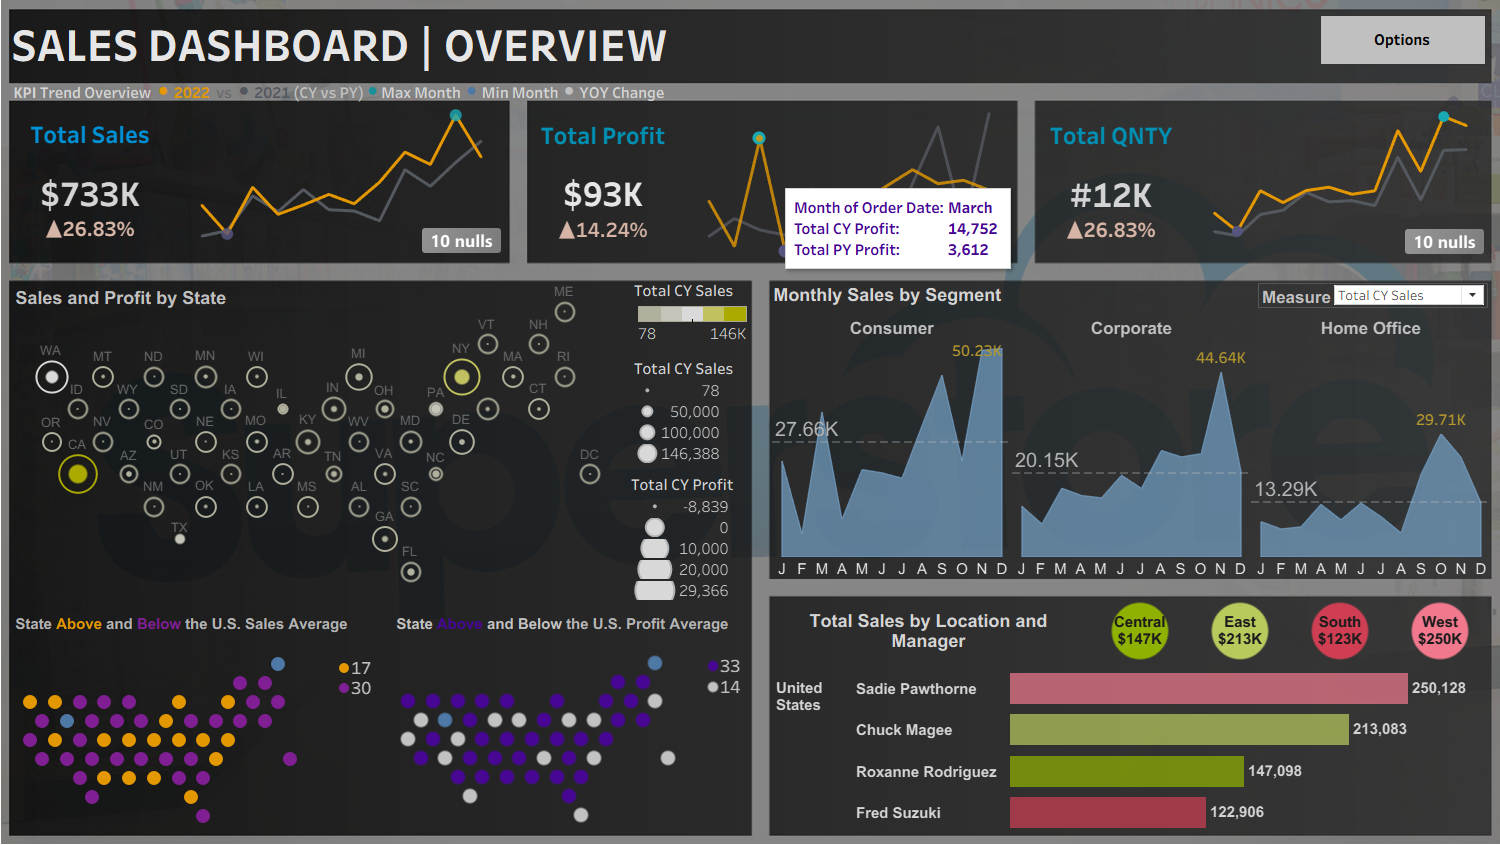

What the dashboard file says about the page in this screenshot:
{"tool":"tableau","page":{"name":"Sales Dashboard","canvas":[1600,900],"ordinal":0},"visuals":[{"type":"image","param":"Image/Sales Dashboard Background.png","box":[8,8,1584,852]},{"type":"text","box":[57,17,823,76]},{"type":"dashboard-object","box":[1369,27,166,50]},{"type":"filter","title":"Sales and Profit by State","param":"[federated.190umgp0bk0wml1gljqay1a2h1n5].[none:Category:nk]","box":[1165,30,203,57]},{"type":"text","box":[59,86,672,29]},{"type":"filter","title":"Sales and Profit by State","param":"[federated.190umgp0bk0wml1gljqay1a2h1n5].[none:Region:nk]","box":[1165,87,203,57]},{"type":"worksheet","title":"Sales KPI","mark":"Automatic","box":[57,111,164,163]},{"type":"worksheet","title":"Sales Sparklines","mark":"Automatic","rows":["Calculation_1835099585802250"],"cols":["Order Date"],"box":[221,111,338,163]},{"type":"worksheet","title":"Profit KPI","mark":"Automatic","box":[576,112,152,163]},{"type":"worksheet","title":"Profit Sparklines","mark":"Automatic","rows":["Calculation_1835099858354191"],"cols":["Order Date"],"box":[728,112,339,163]},{"type":"worksheet","title":"Quantity KPI","mark":"Automatic","box":[1083,113,153,162]},{"type":"worksheet","title":"Quantity Sparklines","mark":"Automatic","rows":["min max month (copy)_1835099876958224"],"cols":["Order Date"],"box":[1236,113,306,162]},{"type":"filter","title":"Sales and Profit by State","param":"[federated.190umgp0bk0wml1gljqay1a2h1n5].[none:Ship Mode:nk]","box":[1165,144,203,63]},{"type":"worksheet","title":"Sales and Profit by State","mark":"Circle","rows":["Row"],"cols":["Column","Column"],"box":[58,291,618,325]},{"type":"legend","title":"Sales and Profit by State","param":"[federated.190umgp0bk0wml1gljqay1a2h1n5].[sum:Calculation_1835099517100032:qk]","box":[683,292,117,92]},{"type":"text","box":[819,292,298,30]},{"type":"text","box":[61,295,222,30]},{"type":"parameter","param":"[Parameters].[Parameter 1]","box":[1307,295,230,25]},{"type":"worksheet","title":"Monthly Sales by Segment","mark":"Area","rows":["Calculation_1678695349915648"],"cols":["Segment","Order Date"],"box":[821,330,719,260]},{"type":"legend","title":"Sales and Profit by State","param":"[federated.190umgp0bk0wml1gljqay1a2h1n5].[sum:Calculation_1835099517100032:qk]","box":[683,370,116,106]},{"type":"legend","title":"Sales and Profit by State","param":"[federated.190umgp0bk0wml1gljqay1a2h1n5].[sum:Calculation_1835099557437444:qk]","box":[680,486,114,132]},{"type":"worksheet","title":"Region Sales Wise","mark":"Circle","cols":["Region"],"box":[1139,608,400,70]},{"type":"text","box":[818,610,319,67]},{"type":"text","box":[61,621,341,30]},{"type":"text","box":[442,621,341,30]},{"type":"worksheet","title":"Avg Profit by State","mark":"Circle","rows":["Row"],"cols":["Column"],"box":[437,656,300,190]},{"type":"worksheet","title":"Avg Sales by State","mark":"Circle","rows":["Row"],"cols":["Column"],"box":[59,657,300,190]},{"type":"worksheet","title":"Avg Profit by State Count","mark":"Circle","rows":["Calculation_1835100352995352"],"box":[732,667,63,45]},{"type":"worksheet","title":"Avg Sales by State Count","mark":"Circle","rows":["Calculation_1835100345085971"],"box":[363,670,66,43]},{"type":"worksheet","title":"Total Sales by Location and manager","mark":"Automatic","rows":["Country/Region","Regional Manager"],"cols":["Calculation_1835099517100032"],"box":[819,680,721,165]},{"type":"image","box":[8,860,1584,32]}]}

Visuals, with their boxes in screenshot pixels (x1, y1, x2, y2), scaled from the page's 1600x900 canvas onto the 1500x845 screenshot:
image: rect(8, 8, 1492, 807)
text: rect(53, 16, 825, 87)
dashboard-object: rect(1283, 25, 1439, 72)
"Sales and Profit by State" filter: rect(1092, 28, 1282, 82)
text: rect(55, 81, 685, 108)
"Sales and Profit by State" filter: rect(1092, 82, 1282, 135)
"Sales KPI" worksheet: rect(53, 104, 207, 257)
"Sales Sparklines" worksheet: rect(207, 104, 524, 257)
"Profit KPI" worksheet: rect(540, 105, 682, 258)
"Profit Sparklines" worksheet: rect(682, 105, 1000, 258)
"Quantity KPI" worksheet: rect(1015, 106, 1159, 258)
"Quantity Sparklines" worksheet: rect(1159, 106, 1446, 258)
"Sales and Profit by State" filter: rect(1092, 135, 1282, 194)
"Sales and Profit by State" worksheet (Circle marks): rect(54, 273, 634, 578)
"Sales and Profit by State" legend: rect(640, 274, 750, 361)
text: rect(768, 274, 1047, 302)
text: rect(57, 277, 265, 305)
parameter: rect(1225, 277, 1441, 300)
"Monthly Sales by Segment" worksheet (Area marks): rect(770, 310, 1444, 554)
"Sales and Profit by State" legend: rect(640, 347, 749, 447)
"Sales and Profit by State" legend: rect(638, 456, 744, 580)
"Region Sales Wise" worksheet (Circle marks): rect(1068, 571, 1443, 637)
text: rect(767, 573, 1066, 636)
text: rect(57, 583, 377, 611)
text: rect(414, 583, 734, 611)
"Avg Profit by State" worksheet (Circle marks): rect(410, 616, 691, 794)
"Avg Sales by State" worksheet (Circle marks): rect(55, 617, 337, 795)
"Avg Profit by State Count" worksheet (Circle marks): rect(686, 626, 745, 668)
"Avg Sales by State Count" worksheet (Circle marks): rect(340, 629, 402, 669)
"Total Sales by Location and manager" worksheet: rect(768, 638, 1444, 793)
image: rect(8, 807, 1492, 837)
